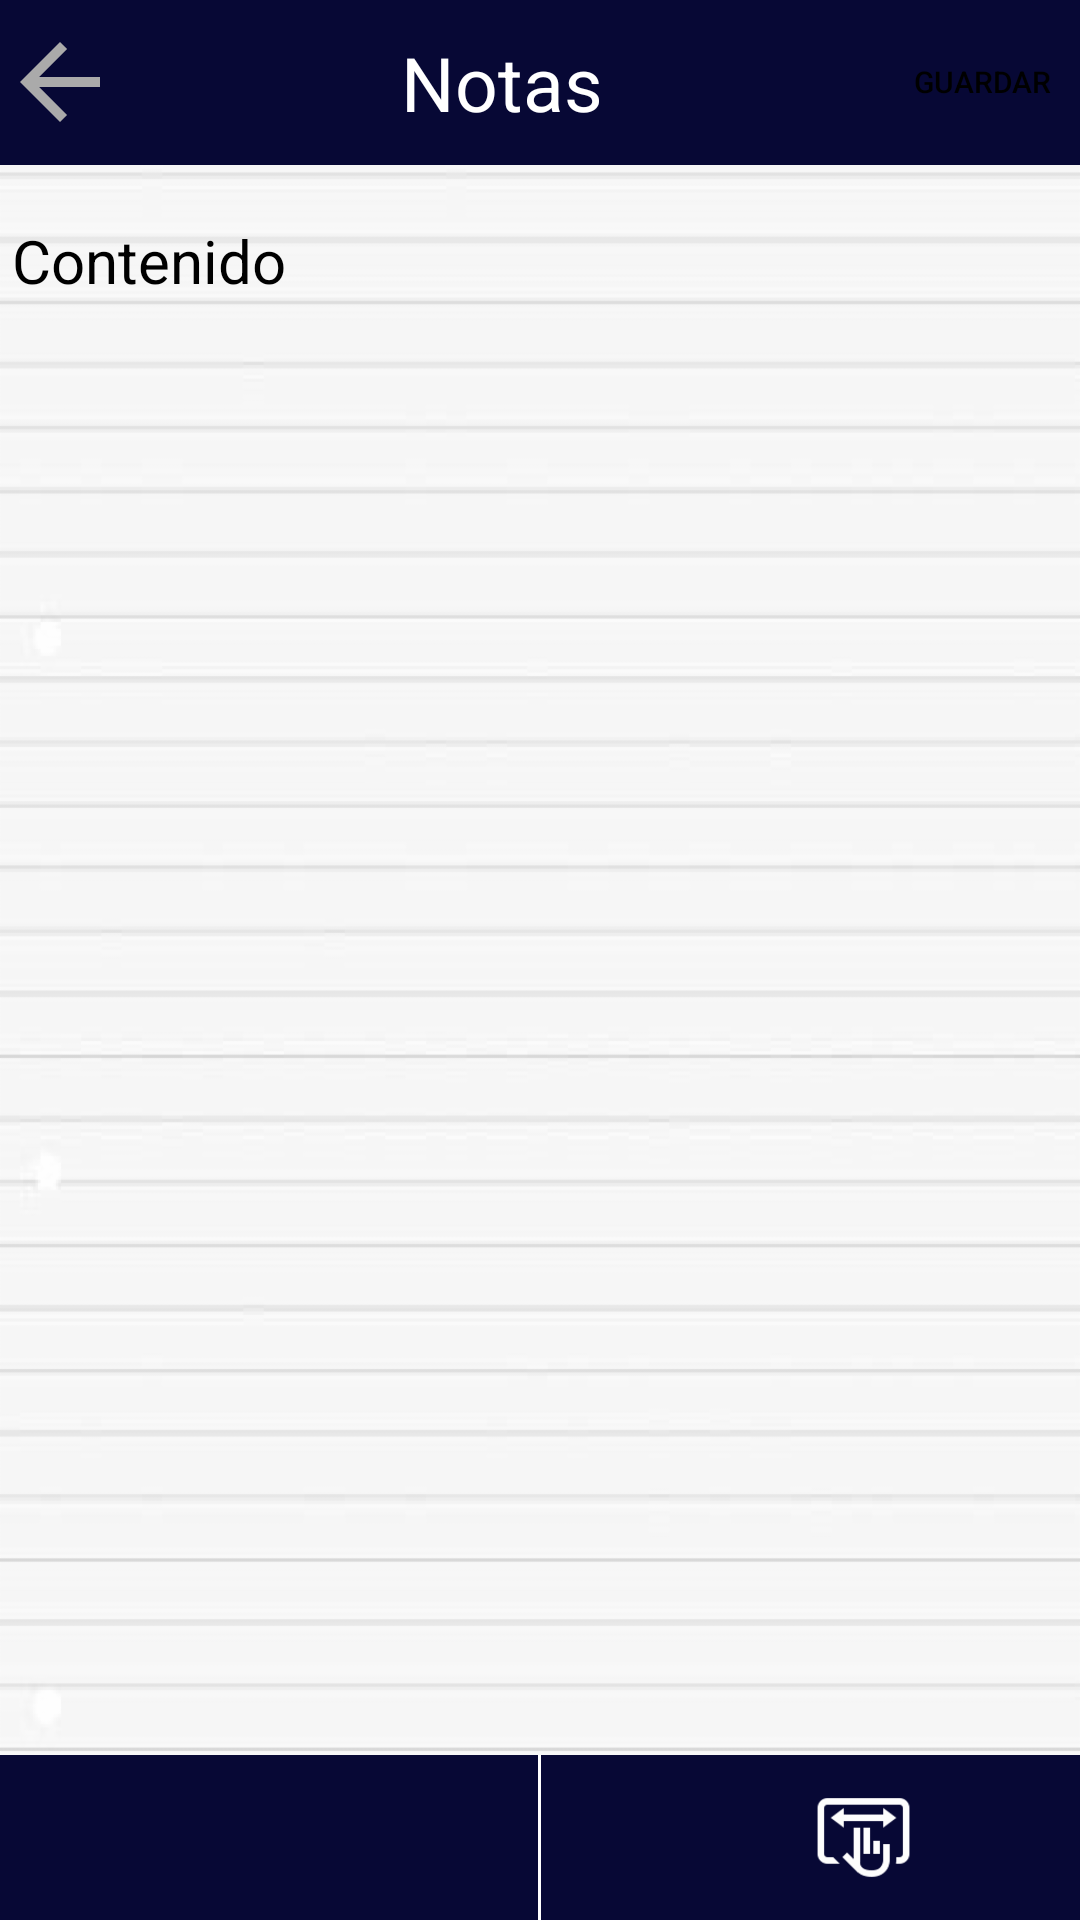

Where to tap for icons on this 1080 x 1920 app screen, as (x,y):
arrow left: (60,82)
